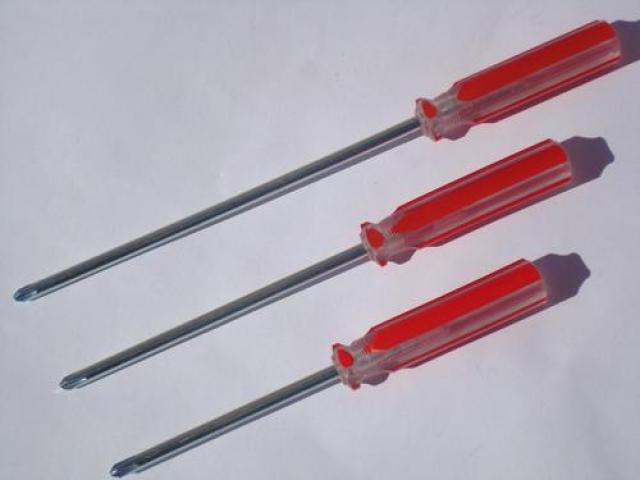Screwdriver: (15, 21, 634, 301), (60, 140, 572, 389), (112, 259, 549, 476)
